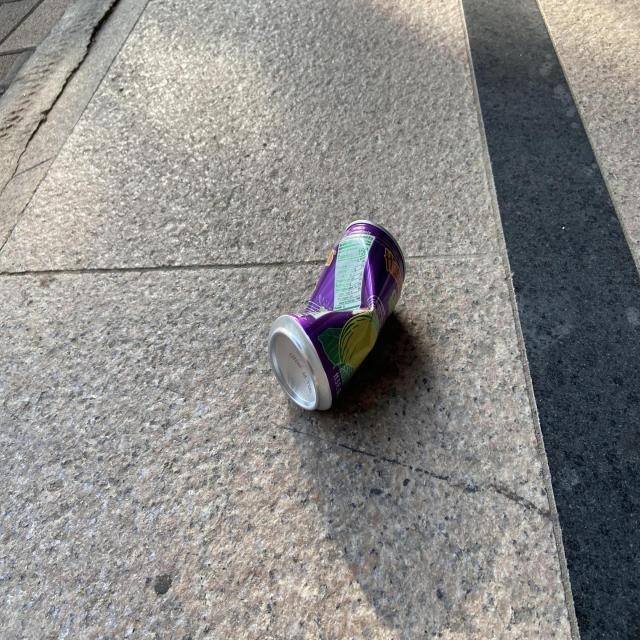can: (268, 220, 406, 410)
